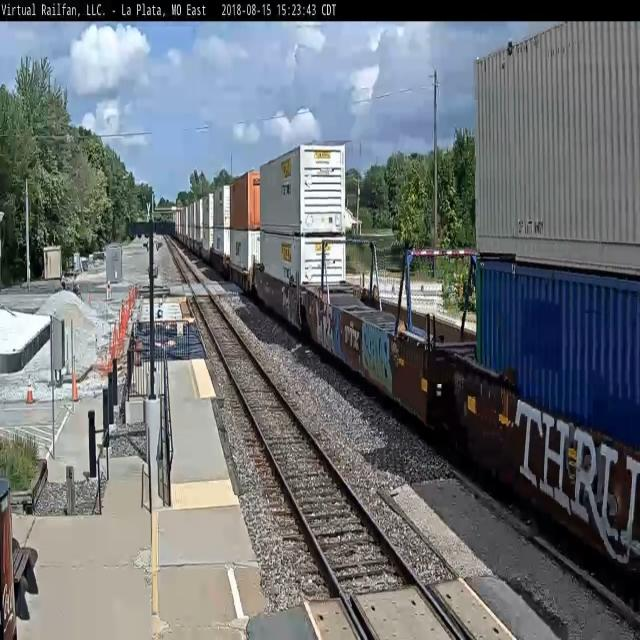container: (468, 19, 640, 284), (471, 251, 640, 453), (258, 136, 349, 238), (258, 228, 348, 289)
flatcar: (455, 350, 640, 587), (303, 271, 472, 427)
